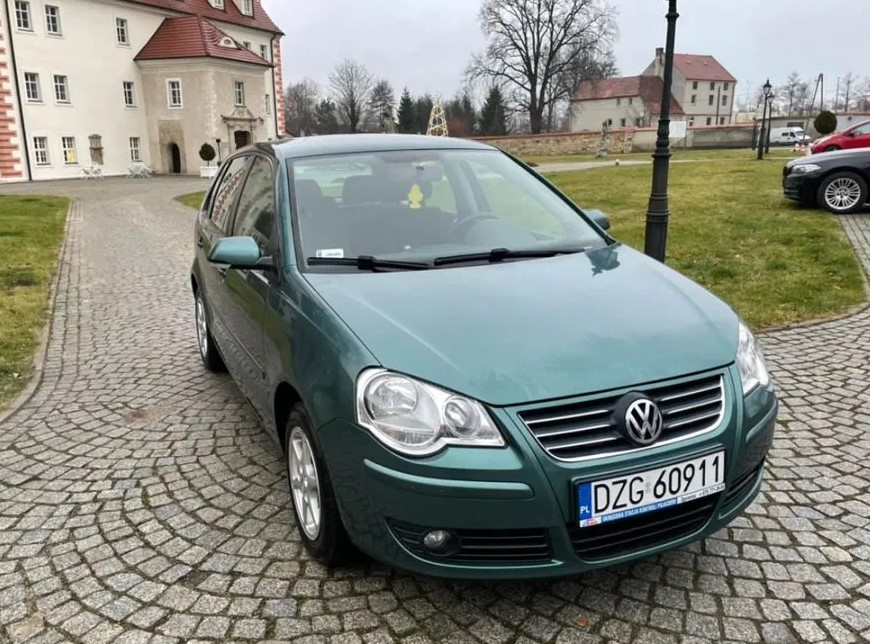number_plate: (563, 440, 734, 540)
